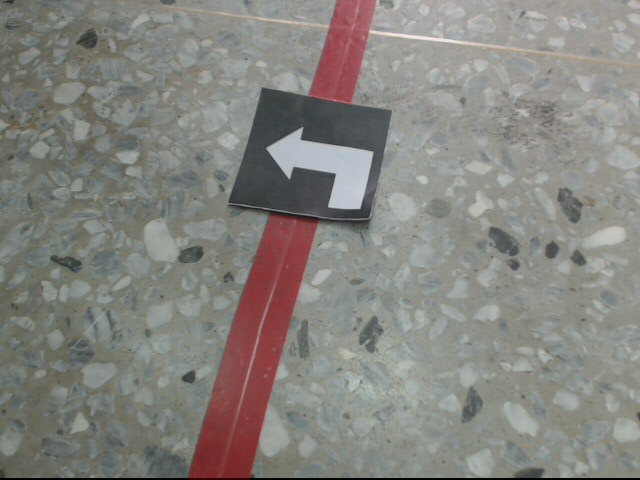left: (229, 83, 394, 219)
